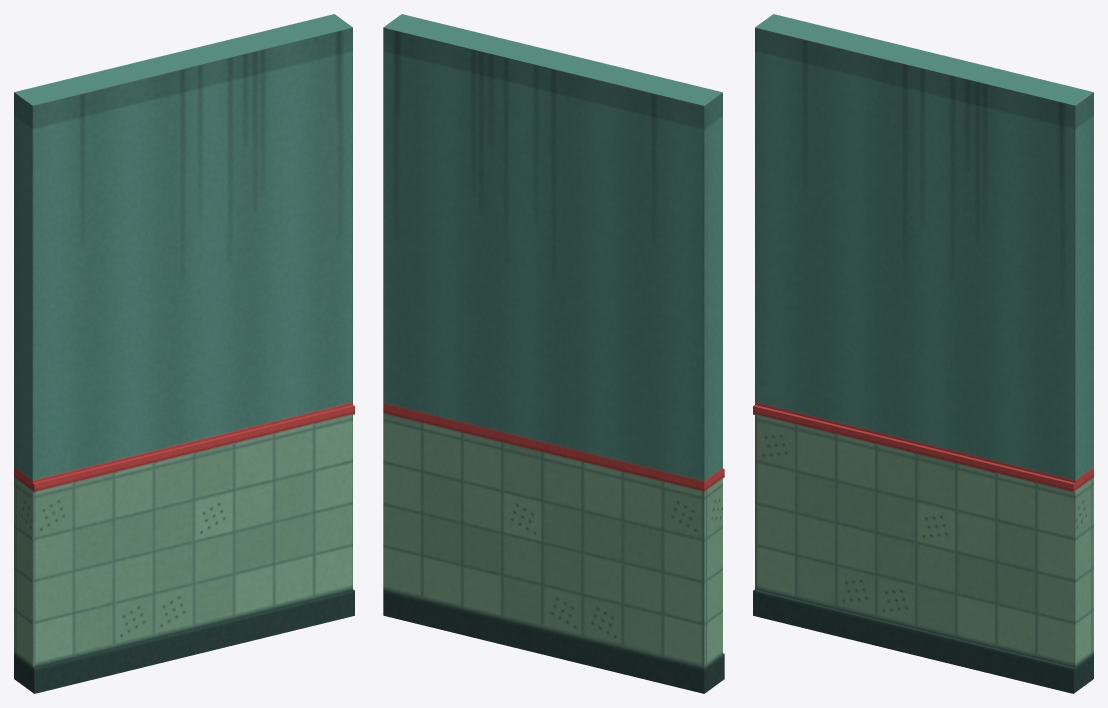
The model's file is SM_Lab_Wall_Dirty_200x350.fbx.
3 views of the same model, side by side, from view 1: azimuth 30°, elevation 25°; view 2: azimuth 150°, elevation 25°; view 3: azimuth 330°, elevation 25° (orthographic).
Visible parts, largest first — view 1: SM_Lab_Wall_Dirty_200x350; view 2: SM_Lab_Wall_Dirty_200x350; view 3: SM_Lab_Wall_Dirty_200x350.
Part boxes in pixels (left/top/right/bottom): SM_Lab_Wall_Dirty_200x350: left=14, top=14, right=354, bottom=693; SM_Lab_Wall_Dirty_200x350: left=383, top=14, right=724, bottom=693; SM_Lab_Wall_Dirty_200x350: left=753, top=14, right=1093, bottom=693.
Size of the model in its own units: 2 by 3.5 by 0.22.
